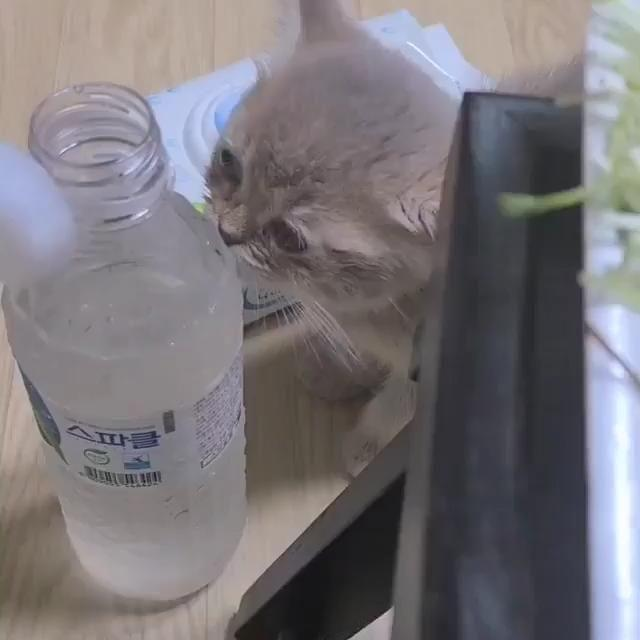bottle: (0, 67, 263, 621)
